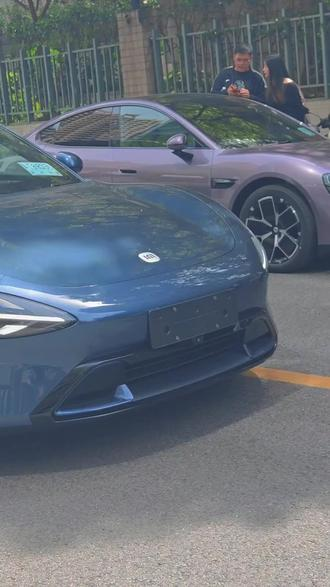su7: (0, 120, 281, 449)
